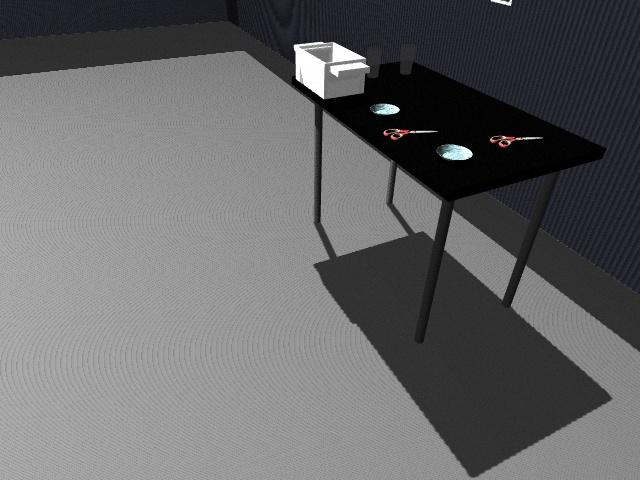cup: (365, 46, 383, 78), (399, 43, 416, 75)
plate: (434, 141, 476, 162), (370, 103, 401, 115)
scissors: (381, 127, 444, 139), (491, 135, 543, 148)
